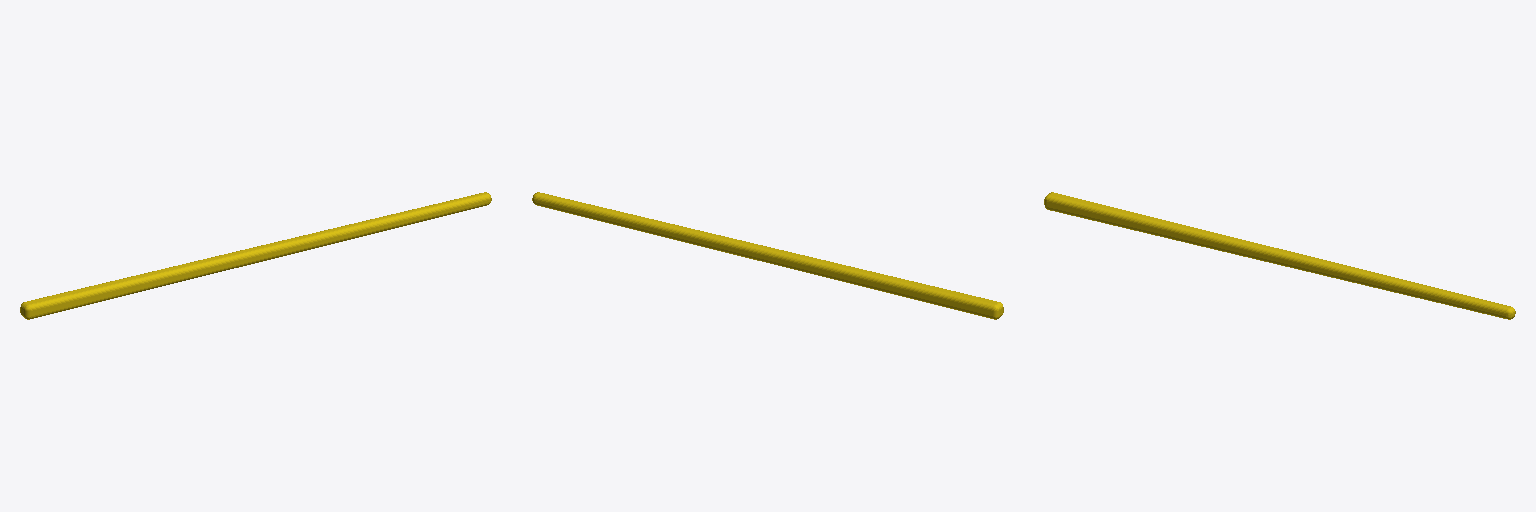
URDF robot description (cb_chopstick_dm05):
<?xml version="1.0"?>
<!-- ContactBench chopstick variant chopstick_dm05. Generated by FoundationTouch tools/contactbench/make_chop_variants.py -->
<robot name="cb_chopstick_dm05">
  <material name="c"><color rgba="0.85 0.75 0.10 1.0"/></material>
  <link name="object">
    <visual><origin xyz="0 0 0" rpy="0 0 0"/><geometry><mesh filename="chopstick_dm05.obj" scale="1 1 1"/></geometry><material name="c"/></visual>
    <collision><origin xyz="0 0 0" rpy="0 0 0"/><geometry><mesh filename="coll_00.obj" scale="1 1 1"/></geometry></collision>
    <inertial><mass value="0.003119"/><origin xyz="0 0 0" rpy="0 0 0"/><inertia ixx="1.295934e-08" ixy="2.764138e-13" ixz="-1.328185e-15" iyy="1.006242e-05" iyz="3.222039e-15" izz="1.006242e-05"/></inertial>
  </link>
</robot>

--- Render facts (derived) ---
3 views of the same robot in one strip: view 1: azimuth 30°, elevation 25°; view 2: azimuth 150°, elevation 25°; view 3: azimuth 330°, elevation 25° (orthographic).
Robot: cb_chopstick_dm05 — 1 links, 0 joints (none); root link object; default pose: every joint at zero.
Visible links, largest first — view 1: object; view 2: object; view 3: object.
Link boxes in pixels (x1=…): object: x1=20, y1=192, x2=491, y2=319; object: x1=532, y1=192, x2=1003, y2=319; object: x1=1044, y1=192, x2=1515, y2=319.
Bounding box of the posed robot: 0.2 × 0.006 × 0.006 m (x, y, z).
1 mesh visuals loaded from 1 distinct referenced files (1 OBJ).
